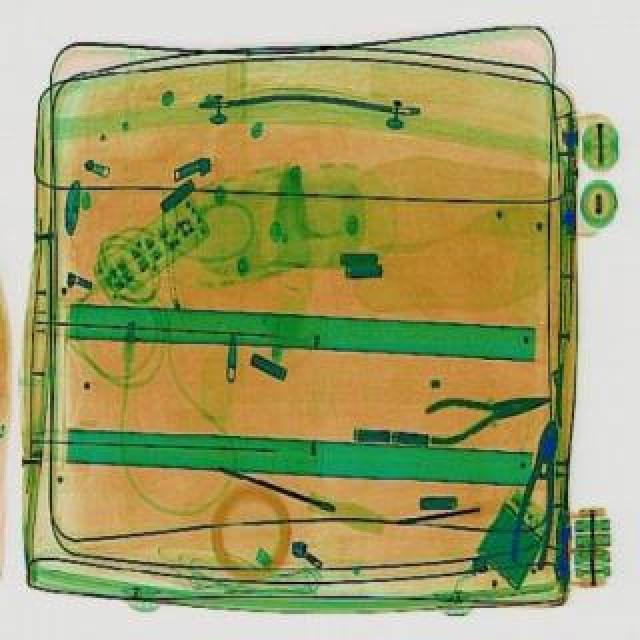wrench: (506, 416, 572, 570), (420, 376, 554, 444)
